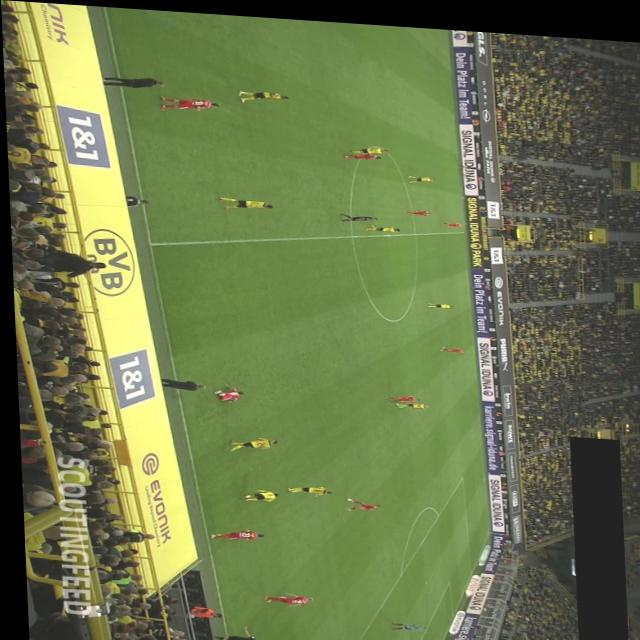goalkeeper: (384, 616, 420, 626)
player: (157, 94, 217, 112), (224, 432, 274, 452), (216, 194, 271, 210), (257, 588, 308, 605), (203, 525, 259, 540), (236, 87, 288, 102), (281, 480, 328, 493), (210, 381, 241, 400), (235, 485, 274, 500), (340, 492, 376, 508), (348, 140, 387, 151), (381, 389, 417, 399), (342, 147, 380, 156), (363, 219, 398, 228), (392, 396, 426, 405), (436, 214, 462, 224), (405, 170, 433, 179), (436, 340, 461, 348), (401, 203, 429, 210), (425, 297, 451, 304)
referee: (206, 625, 257, 640), (338, 209, 376, 219), (456, 158, 478, 165)
